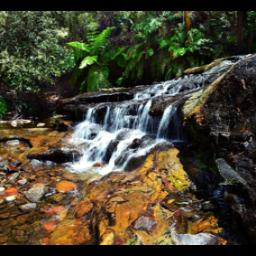Crow: (216, 159, 247, 186)
